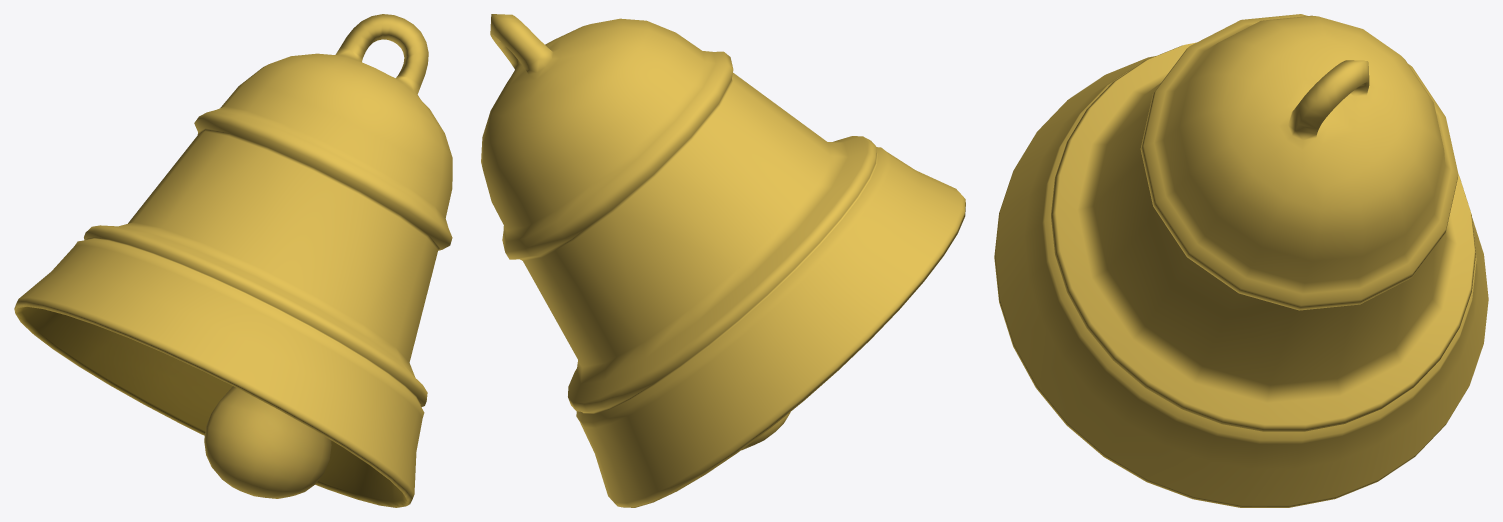
Rendered from bell_final_Draco.glb.
3 renders of one model, left to right at view 1: azimuth 30°, elevation 25°; view 2: azimuth 150°, elevation 25°; view 3: azimuth 270°, elevation 25°, orthographic. The views are drawn at different scales.
Visible parts, largest first — view 1: bell; view 2: bell; view 3: bell.
Boxes of the visible parts, x1=… form: bell: x1=14, y1=14, x2=452, y2=507; bell: x1=481, y1=14, x2=965, y2=507; bell: x1=994, y1=14, x2=1488, y2=507.
Bounding box in the file's own units: 0.9462 × 0.9801 × 0.8953.
1 material, 1 textured.
